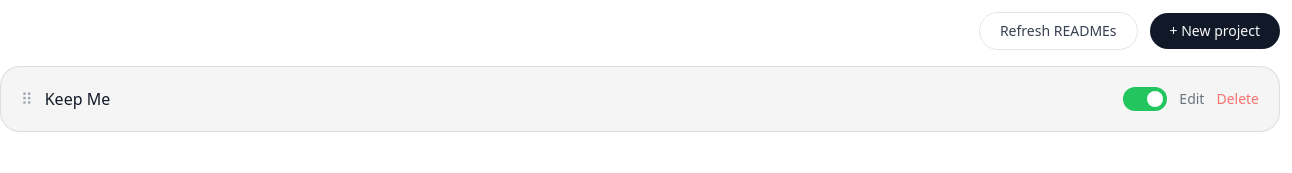
Test: ProjectsManagerClient - delete error handling › restores the row and shows an inline error when delete fails
Step 1. Click the button "Delete" → (1238, 99), box top-left (1216, 89), bottom-right (1259, 109)
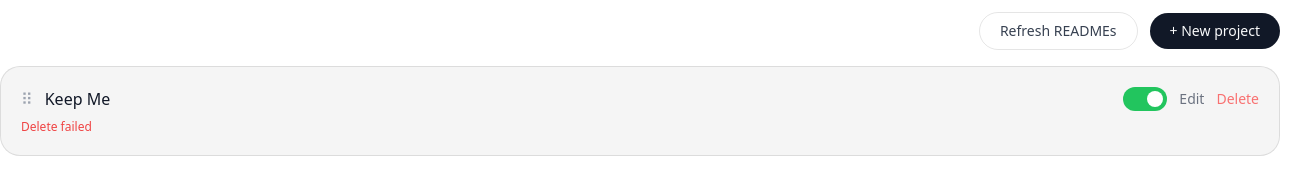
Expected: the text "Keep Me" is shown, top-left (45, 88), bottom-right (110, 110)
Expected: the text "Delete failed" is shown, top-left (21, 118), bottom-right (92, 135)
